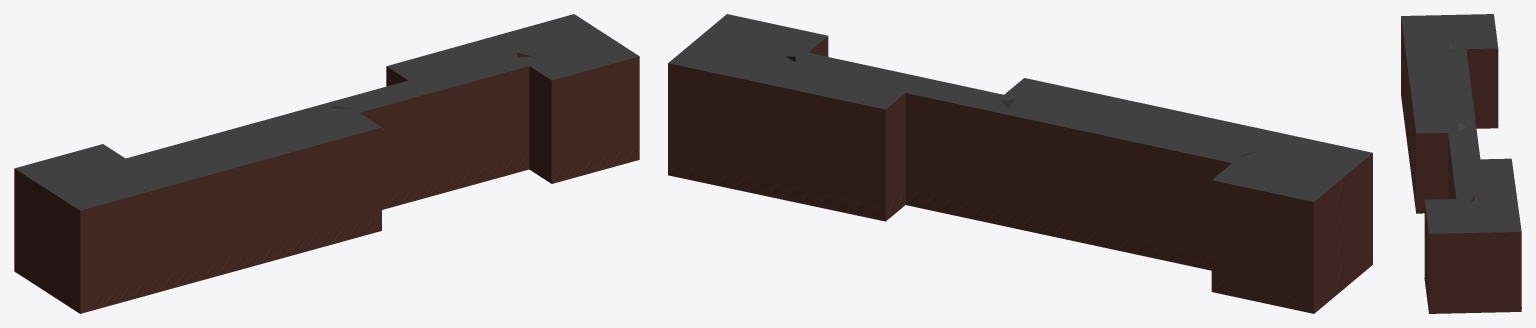
Rendered from bogortuin-101.lod2.glb.
The picture shows the model from 3 angles, left to right: view 1: azimuth 30°, elevation 25°; view 2: azimuth 150°, elevation 25°; view 3: azimuth 270°, elevation 25°; orthographic projection. The views are drawn at different scales.
Visible parts, largest first — view 1: lod2; view 2: lod2; view 3: lod2.
Boxes of the visible parts, x1,y1,x2,y2 form: lod2: (14,14,639,313); lod2: (668,14,1372,313); lod2: (1401,14,1521,313).
Size of the model in its own units: 142 by 25.21 by 32.86.
